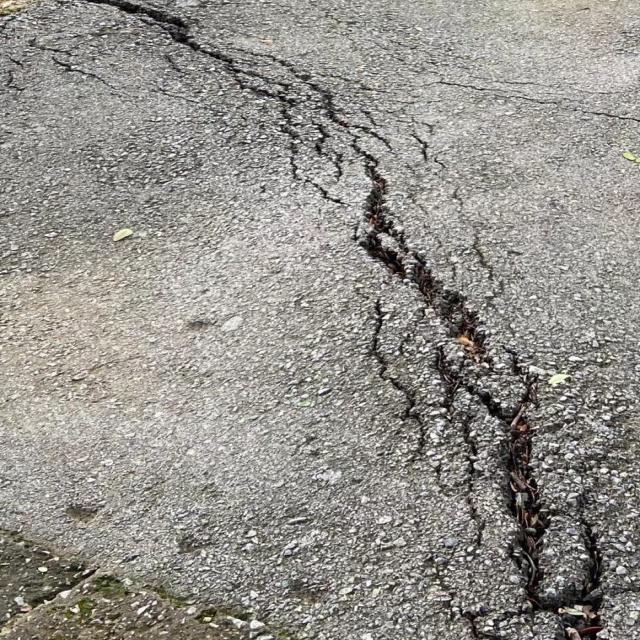hole: (306, 122, 608, 640)
